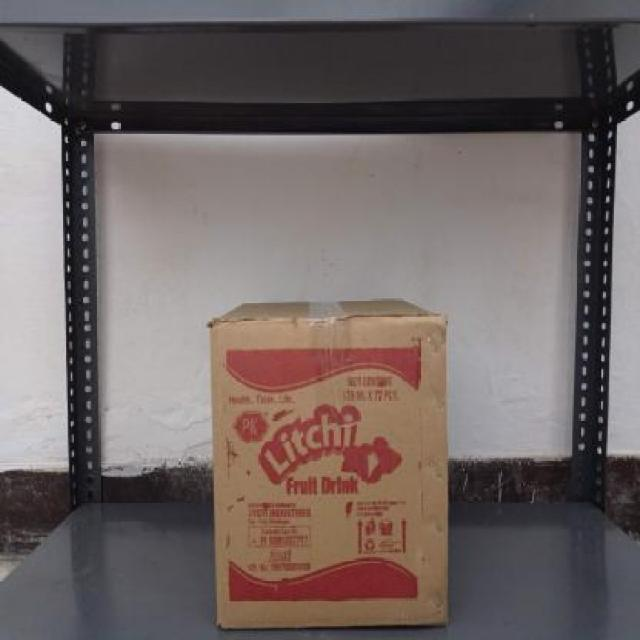box: (206, 321, 451, 624)
